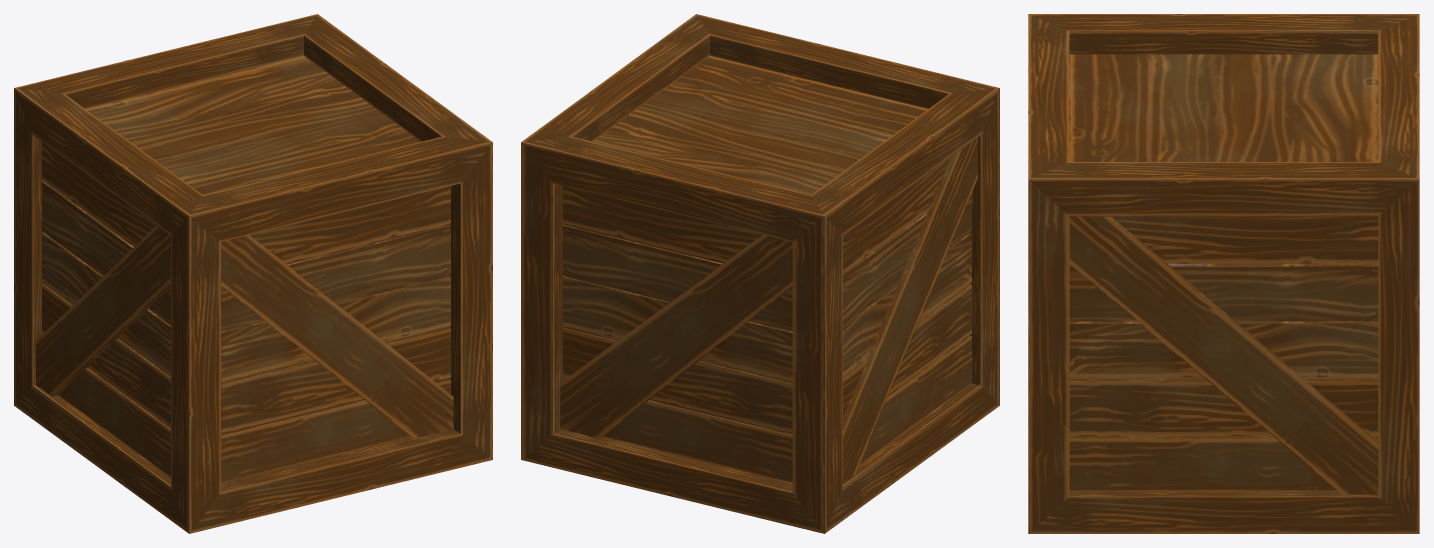
3 renders of one model, left to right at view 1: azimuth 30°, elevation 25°; view 2: azimuth 150°, elevation 25°; view 3: azimuth 270°, elevation 25°, orthographic. The views are drawn at different scales.
Visible parts, largest first — view 1: Cube.1385; view 2: Cube.1385; view 3: Cube.1385.
Part boxes in pixels (bbox=[...]): Cube.1385: bbox=[14, 14, 492, 533]; Cube.1385: bbox=[521, 14, 999, 533]; Cube.1385: bbox=[1028, 14, 1419, 533].
Bounding box in the file's own units: 103 × 103 × 103.
1 material, 1 textured.
